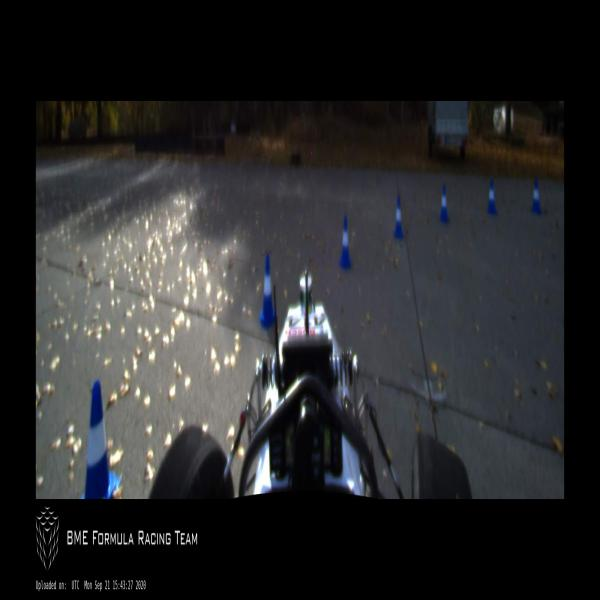blue_cone: (80, 381, 122, 498), (257, 252, 276, 329), (339, 216, 351, 269), (393, 195, 404, 238), (530, 179, 542, 213), (440, 184, 450, 222), (486, 179, 497, 213)
